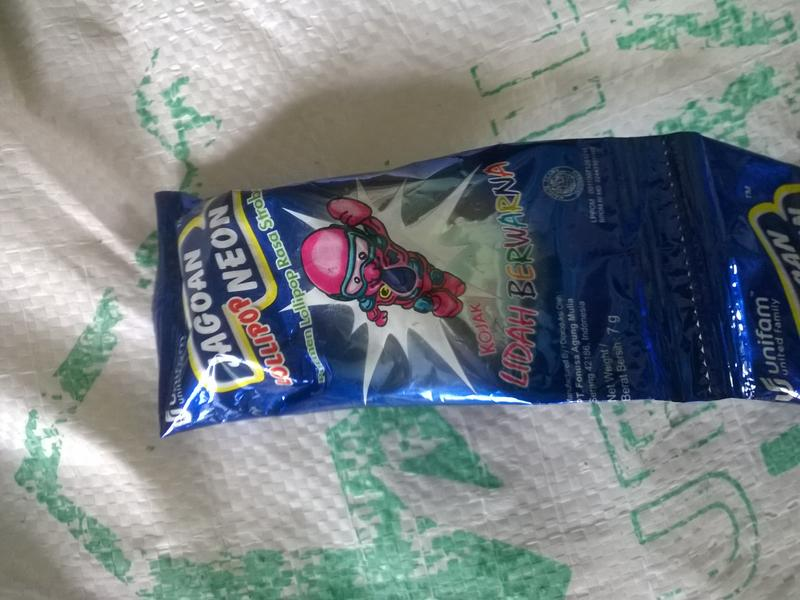jagoan neon: (157, 129, 708, 439)
